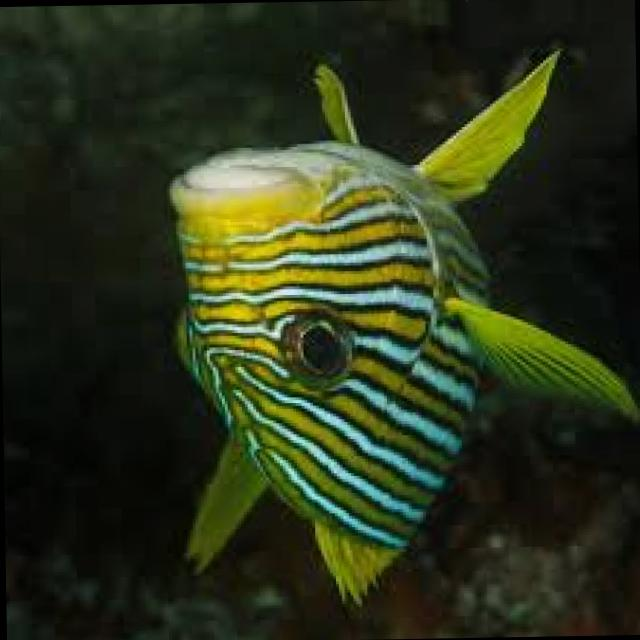RibbonedSweetlips: (160, 46, 640, 614)
